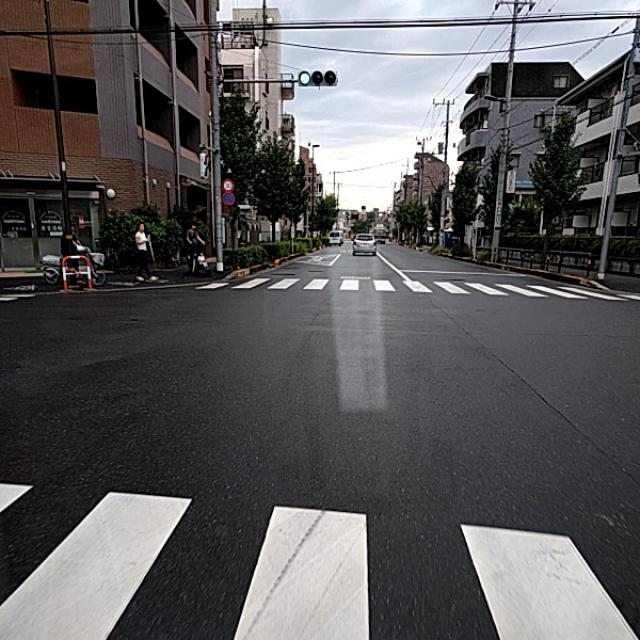pothole: (230, 390, 264, 424)
